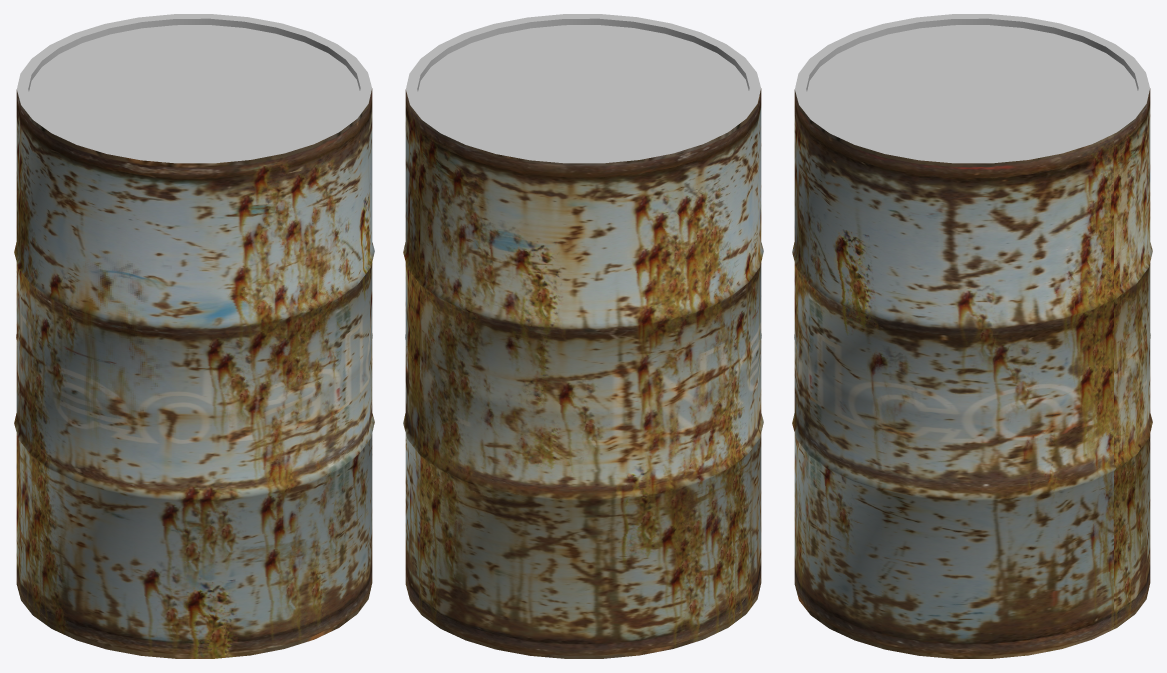
Rendered from Oil_Barrel1.fbx.
The picture shows the model from 3 angles, left to right: view 1: azimuth 30°, elevation 25°; view 2: azimuth 150°, elevation 25°; view 3: azimuth 270°, elevation 25°; orthographic projection.
Visible parts, largest first — view 1: oil Barrel_LOD0; view 2: oil Barrel_LOD0; view 3: oil Barrel_LOD0.
Boxes of the visible parts, box(x1,y1,x2,y2) form: oil Barrel_LOD0: box(14, 14, 374, 658); oil Barrel_LOD0: box(403, 14, 763, 658); oil Barrel_LOD0: box(792, 14, 1152, 658).
Size of what is drawn, in the model's own units: 194 by 295 by 195.
